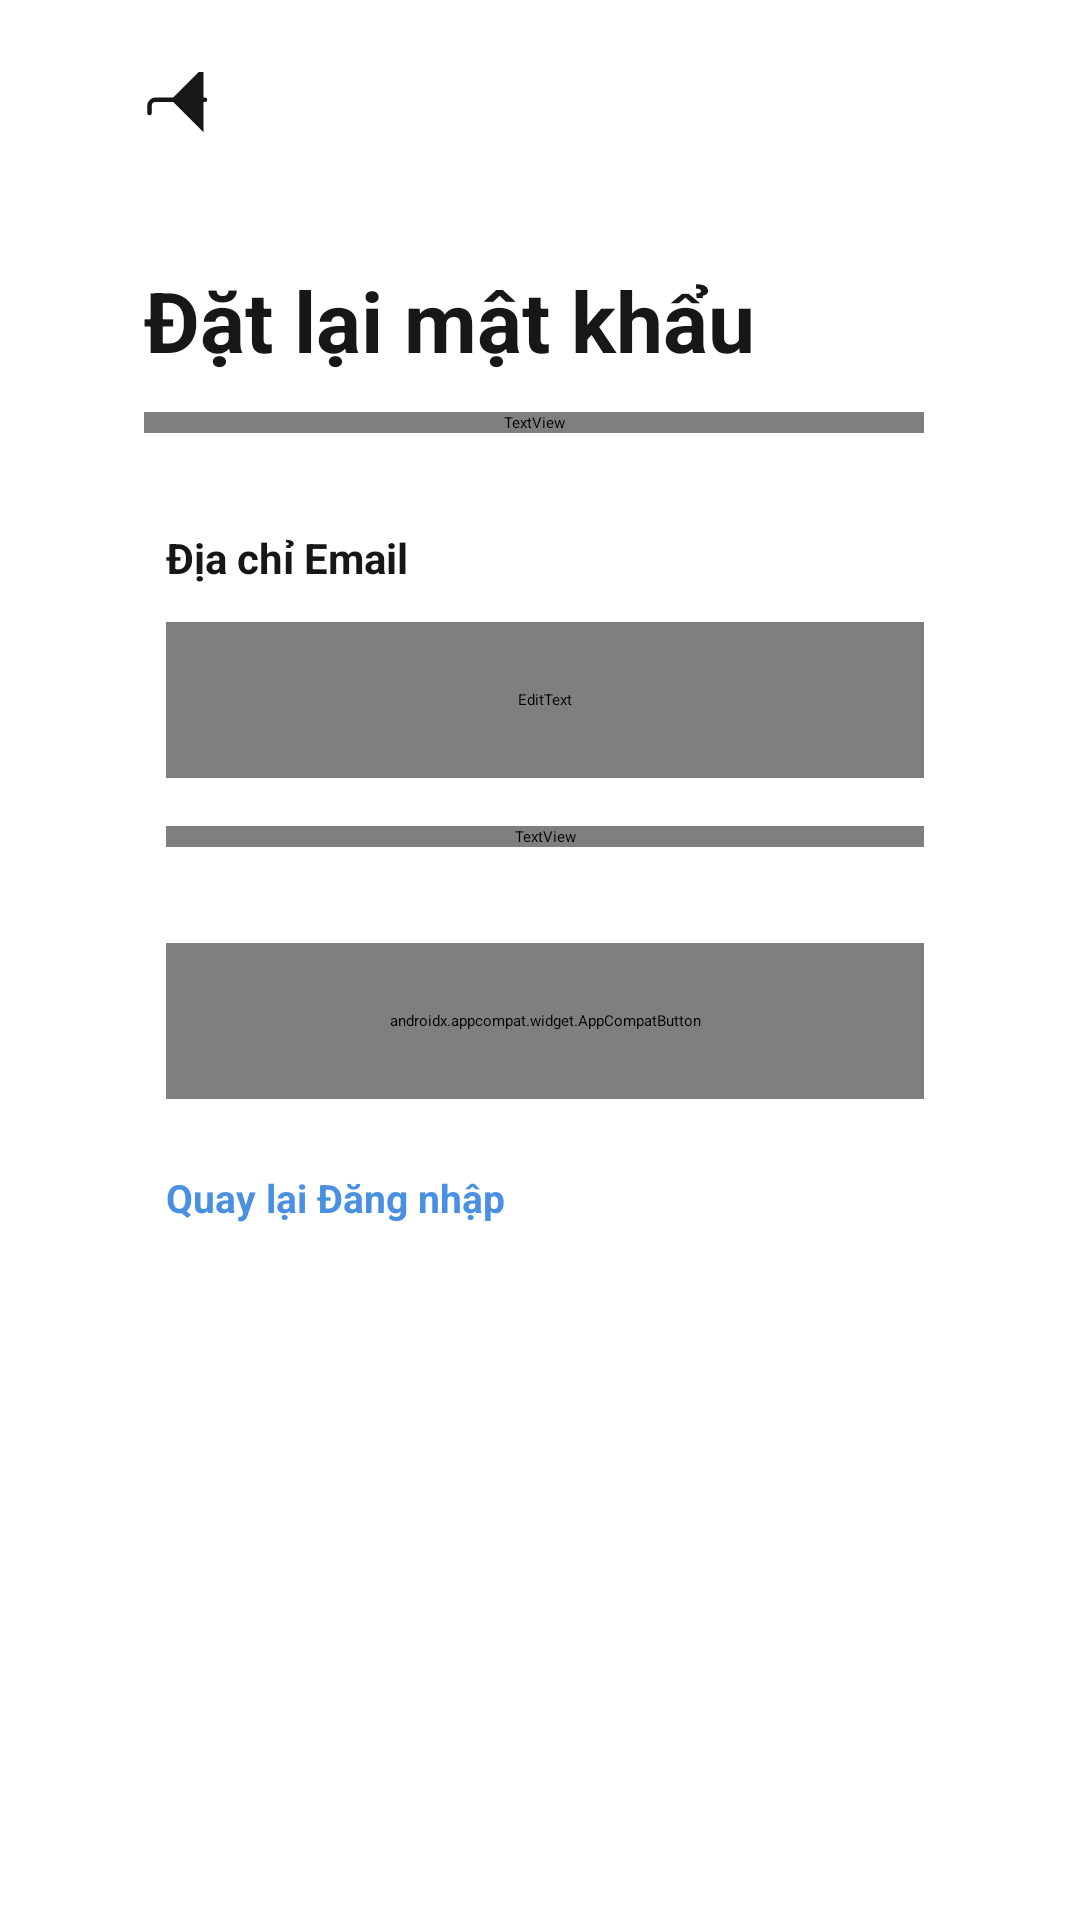

Icons on this 1080w x 1920h Android screen, each with its box as rect(x1, y1, x2, y2):
Quay lại: rect(147, 72, 208, 132)
